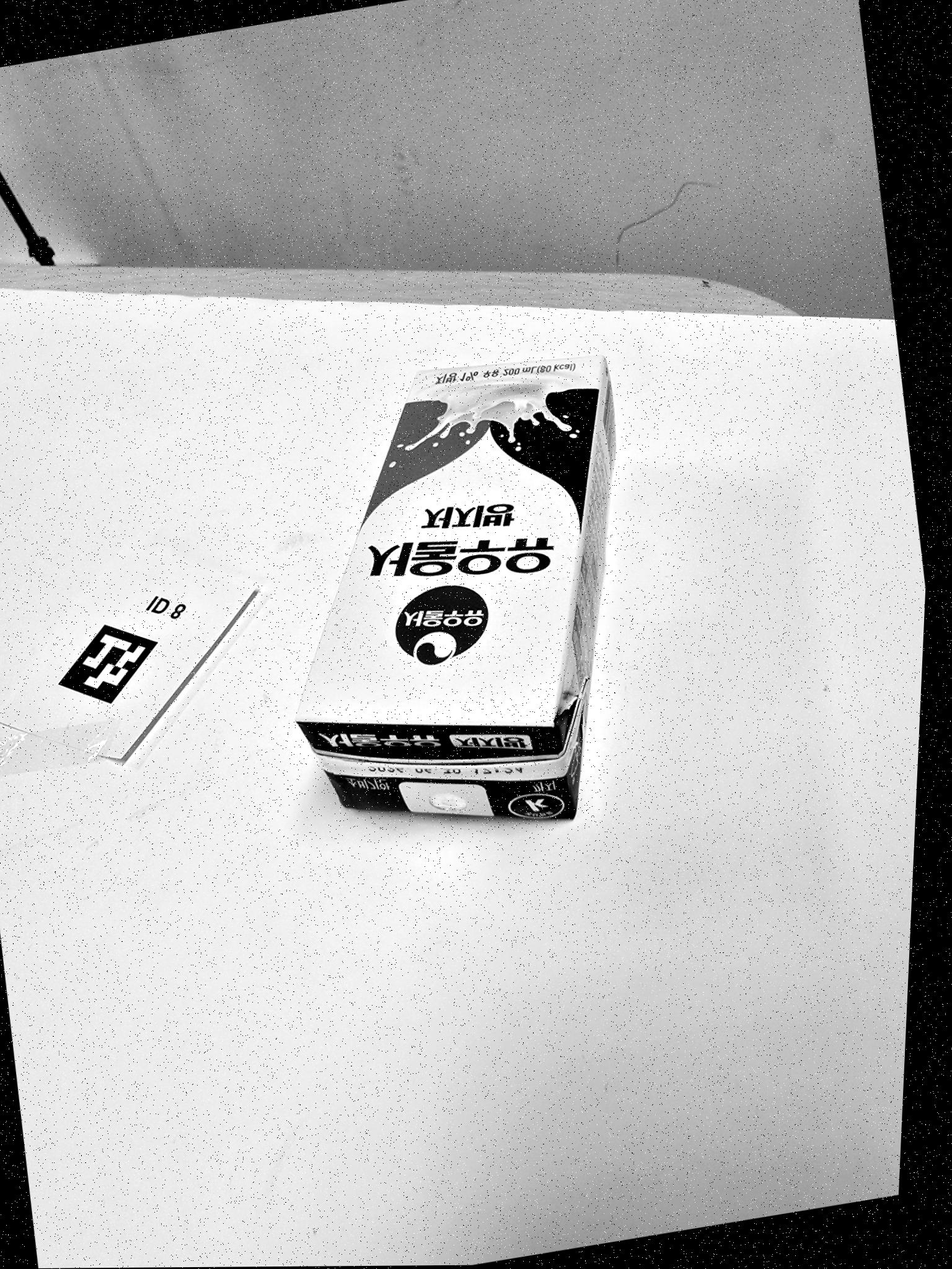milk_blue: (292, 351, 620, 820)
